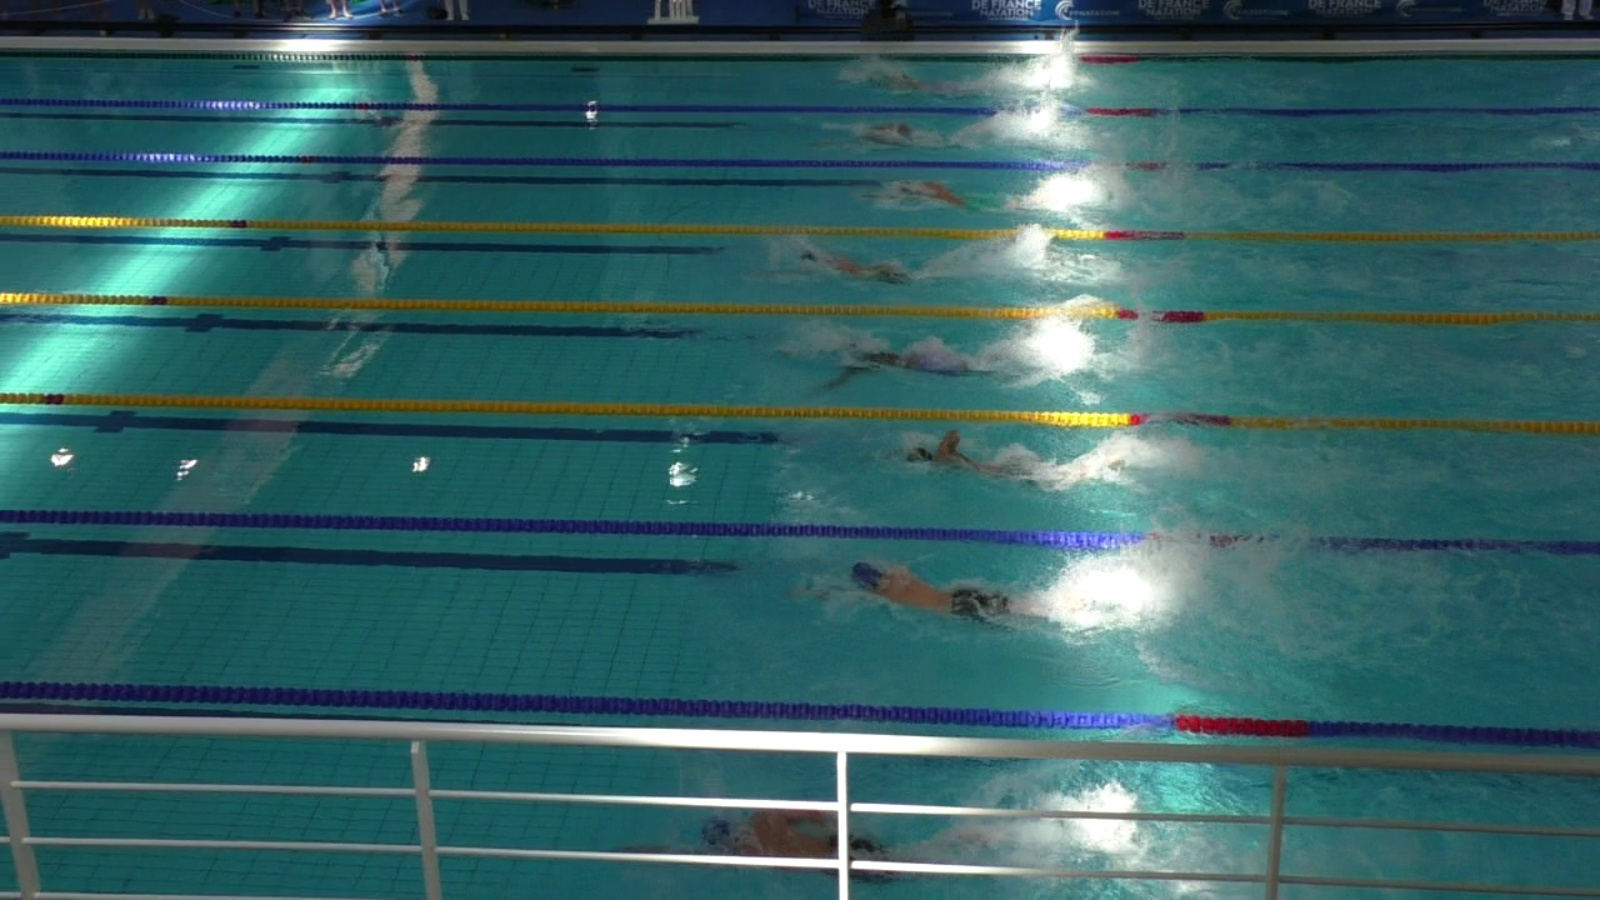swimmerw: (601, 800, 1029, 889), (837, 562, 1073, 636), (902, 433, 1105, 487), (786, 344, 1034, 388), (786, 245, 929, 288), (851, 119, 954, 156), (878, 181, 998, 211), (863, 71, 981, 95)
